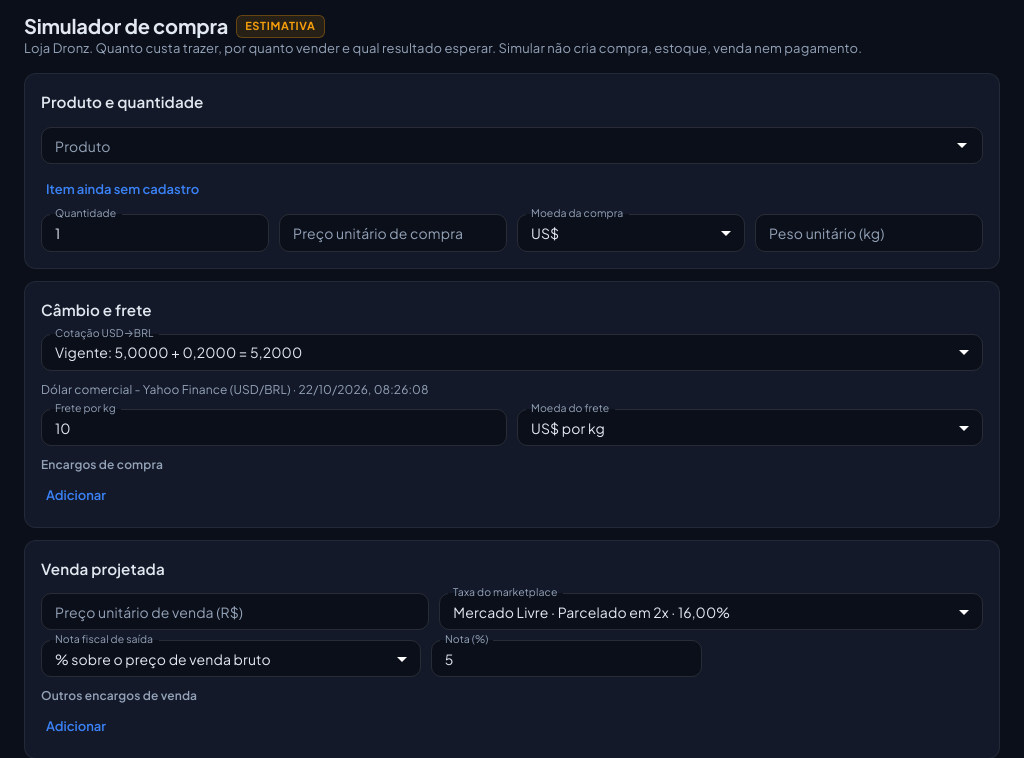
Scenario: Simulador de compra › mostra pendências e alerta de markup vindos do backend
Type "Mac" into the dropdown labelled "Produto".
click(496, 145); type("Mac")  # box [47,133,944,158]
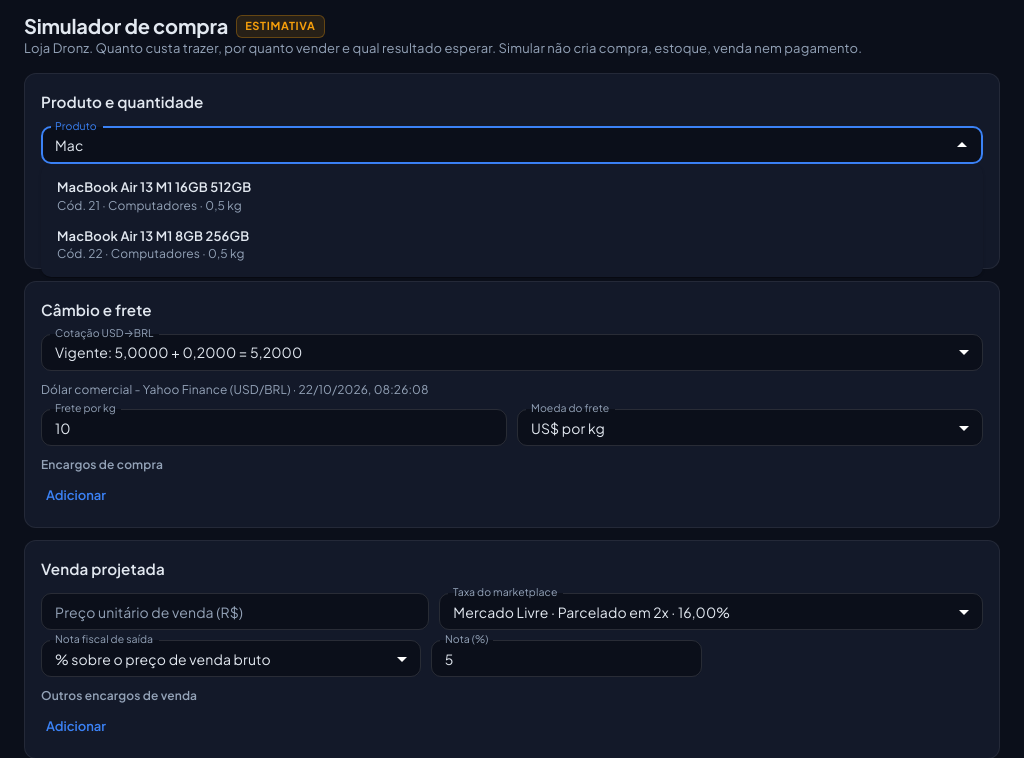
Check: the text "MacBook Air 13 M1 8GB 256GB" is shown, box [57,227,249,245]
Check: the text "Cód. 22 · Computadores · 0,5 kg" is shown, box [57,245,249,263]
Click the text "MacBook Air 13 M1 16GB 512GB".
click(154, 187)  # box [57,178,251,197]
(page scrolled)
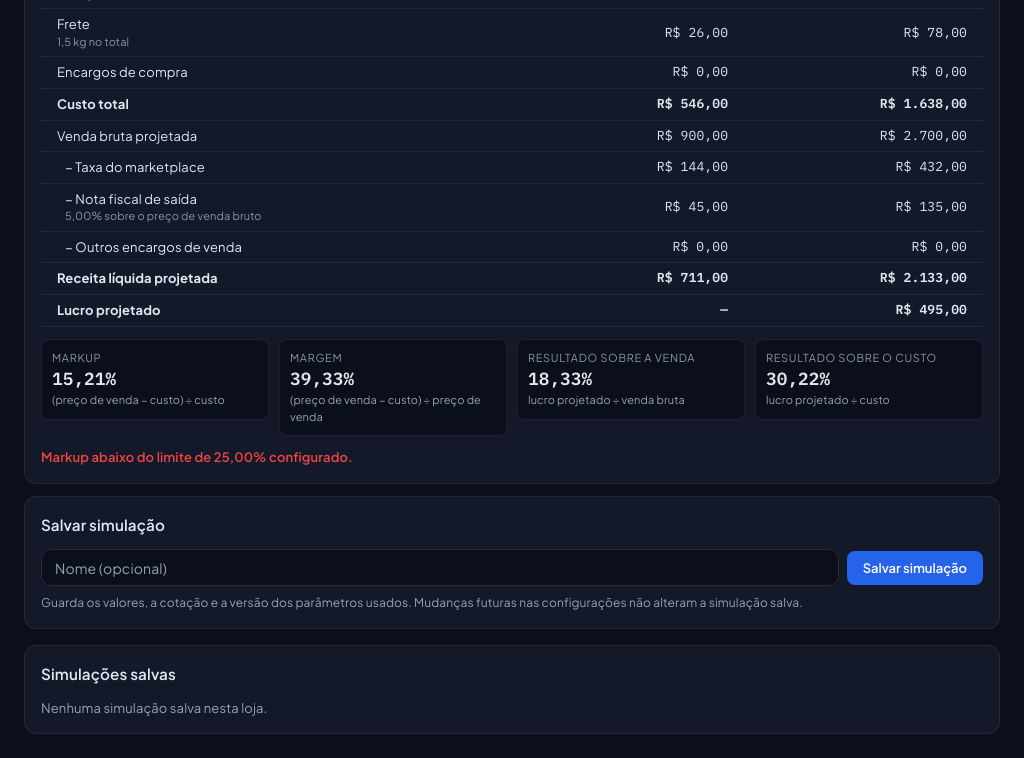
Check: the message shows "Markup abaixo do limite de 25,00%", box [41,449,353,465]
